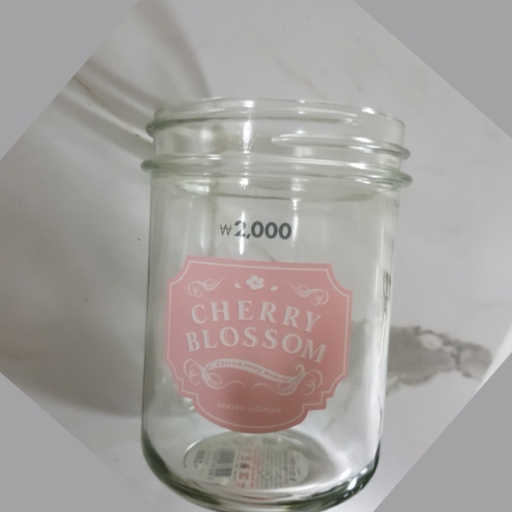Glass_5: (140, 89, 413, 503)
